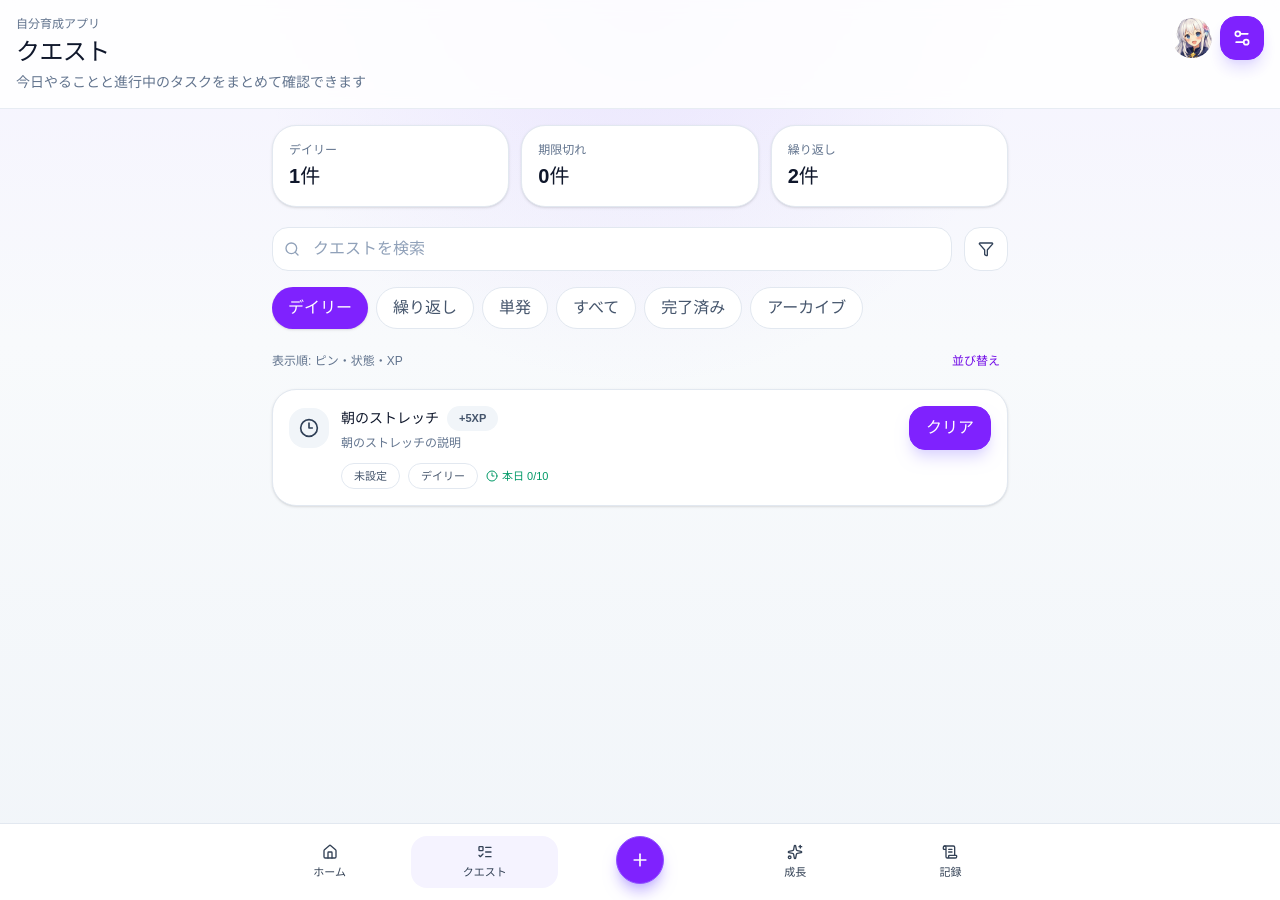
quest list daily tabs › shows only daily repeatable quests in the daily tab and non-daily ones in repeatable
Expected: the text "朝のストレッチ" is shown, x1=341 y1=408 x2=439 y2=428
Expected: the text "夜のランニング" is not shown
Click the button "繰り返し" at {"x": 425, "y": 308}, box x1=376 y1=287 x2=474 y2=329
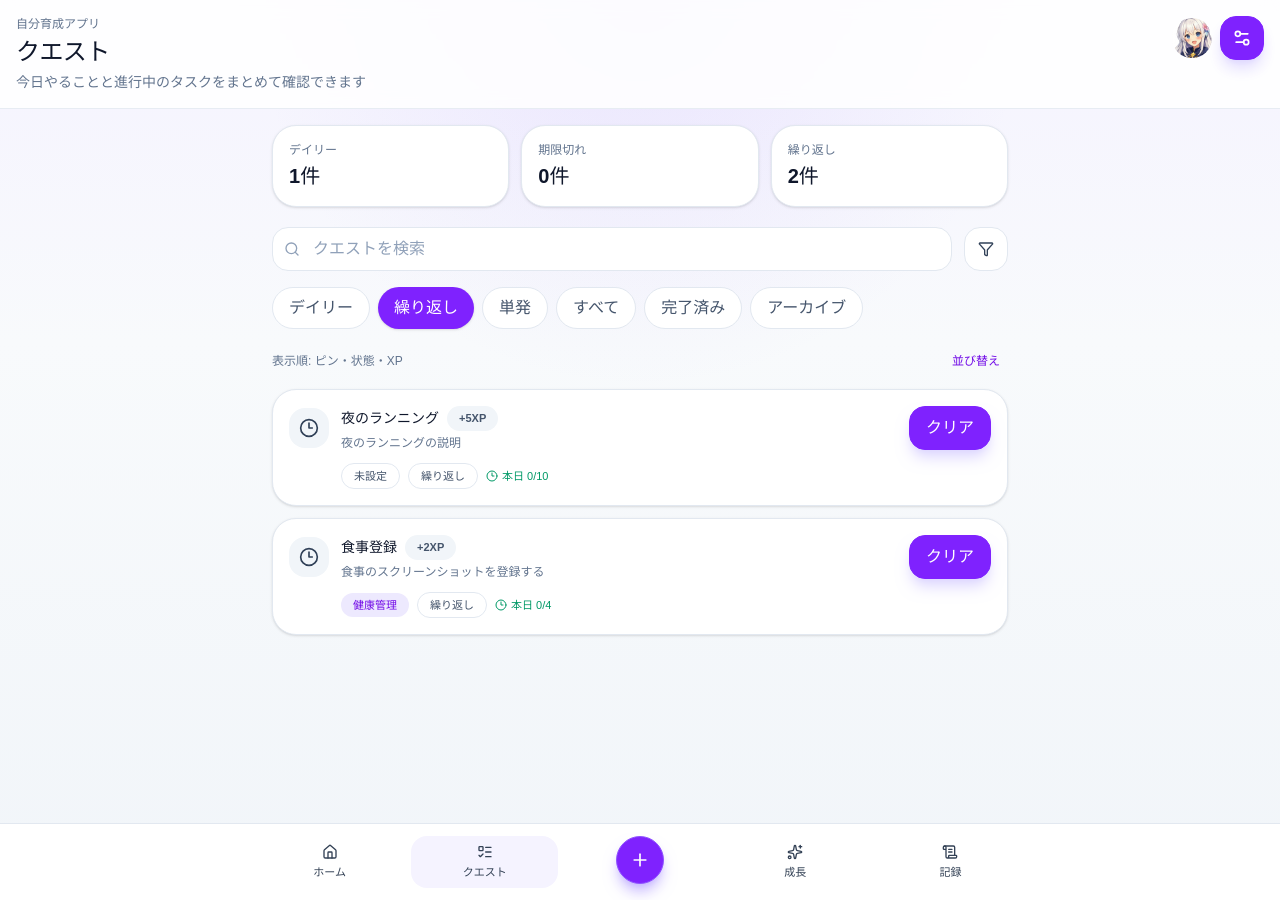
Now the text "朝のストレッチ" is gone
Now the text "夜のランニング" is shown, box x1=341 y1=408 x2=439 y2=428
